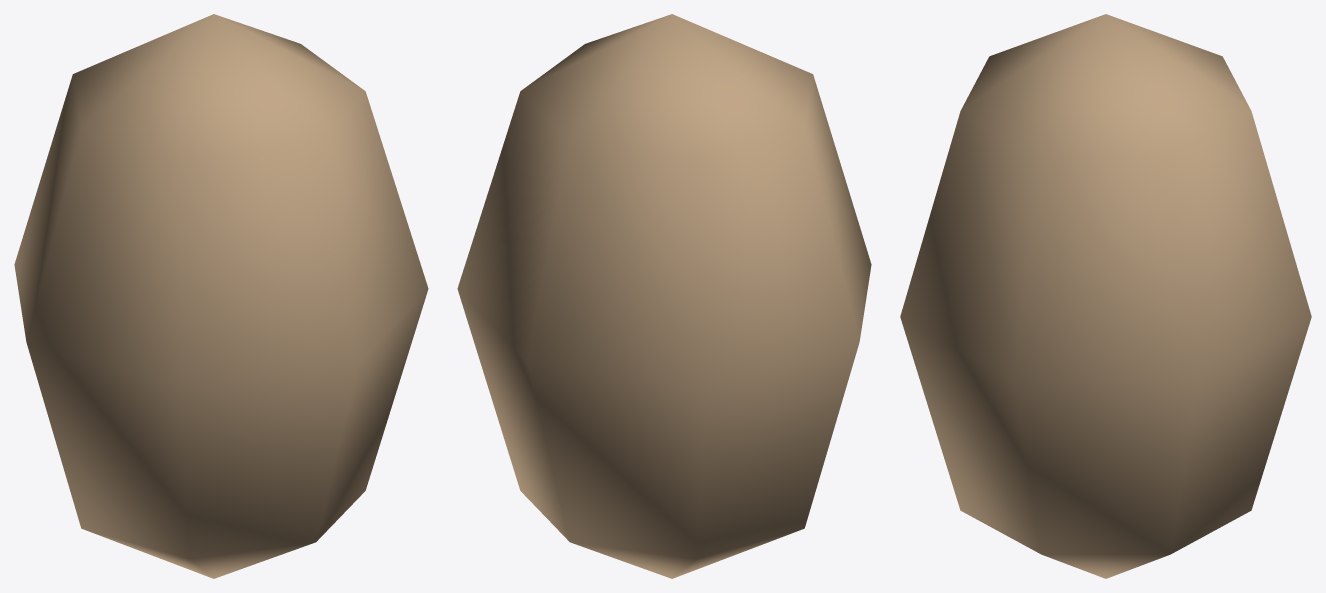
Rendered from SM_ED_Rock.fbx.
3 renders of one model, left to right at view 1: azimuth 30°, elevation 25°; view 2: azimuth 150°, elevation 25°; view 3: azimuth 270°, elevation 25°, orthographic.
Visible parts, largest first — view 1: Rock; view 2: Rock; view 3: Rock.
Part boxes in pixels (left/top/right/bottom): Rock: left=14, top=14, right=428, bottom=578; Rock: left=457, top=14, right=871, bottom=578; Rock: left=900, top=14, right=1311, bottom=578.
Size of the model in its own units: 48.55 by 48.56 by 73.54.
